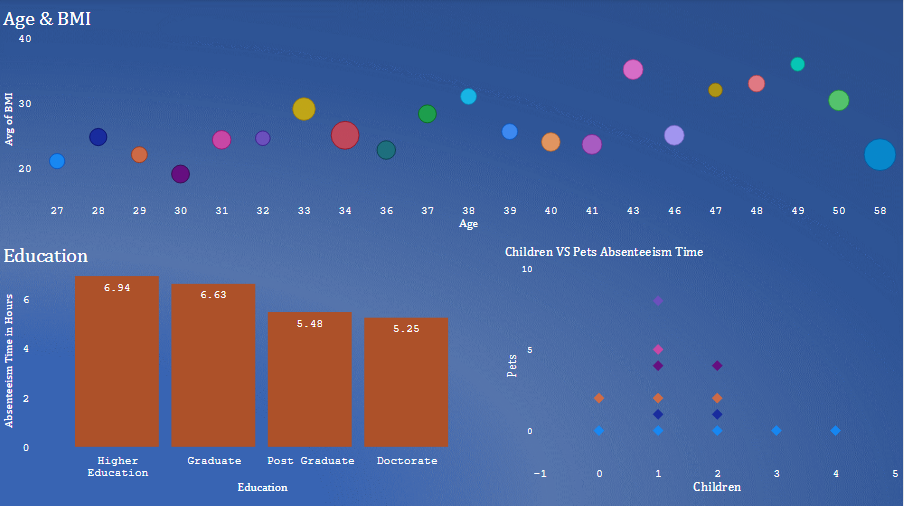

Layout of this report page (visuals, bound fields, positions):
{"tool":"powerbi","page":{"name":"Page 1","canvas":[1280,720],"ordinal":0},"visuals":[{"type":"scatterChart","title":"Age & BMI","fields":{"Y":["Absenteeism_data.Body Mass Index"],"X":["Absenteeism_data.Age"],"Size":["Avg(Absenteeism_data.Absenteeism Time in Hours)"]},"box":[0,13,1280.2,319.7],"z":0},{"type":"columnChart","title":"Education","fields":{"Y":["Avg(Absenteeism_data.Absenteeism Time in Hours)"],"Category":["Absenteeism_data.Education Type"]},"box":[0,348.7,698.7,357.2],"z":1000},{"type":"scatterChart","title":"Children VS Pets Absenteeism Time","fields":{"Y":["Absenteeism_data.Pets"],"X":["Absenteeism_data.Children"]},"box":[711.5,348.7,568.3,357.2],"z":2000}]}

Visuals, with their boxes in screenshot pixels (x1, y1, x2, y2), scaled from the page's 1280x720 canvas onto the 904x506 screenshot:
"Age & BMI" scatterChart: box=[0, 9, 903, 234]
"Education" columnChart: box=[0, 245, 493, 496]
"Children VS Pets Absenteeism Time" scatterChart: box=[502, 245, 903, 496]
